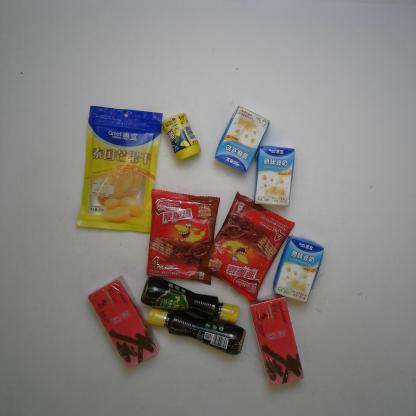Dessert: (194, 189, 296, 304), (146, 186, 220, 286)
Dried Fruit: (74, 103, 165, 236)
Gum: (160, 110, 204, 164)
Instant Drink: (85, 273, 163, 371), (246, 291, 305, 389)
Milk: (213, 103, 272, 174), (271, 234, 326, 305), (252, 144, 296, 208)
Seasoner: (138, 275, 241, 325), (144, 307, 248, 356)
